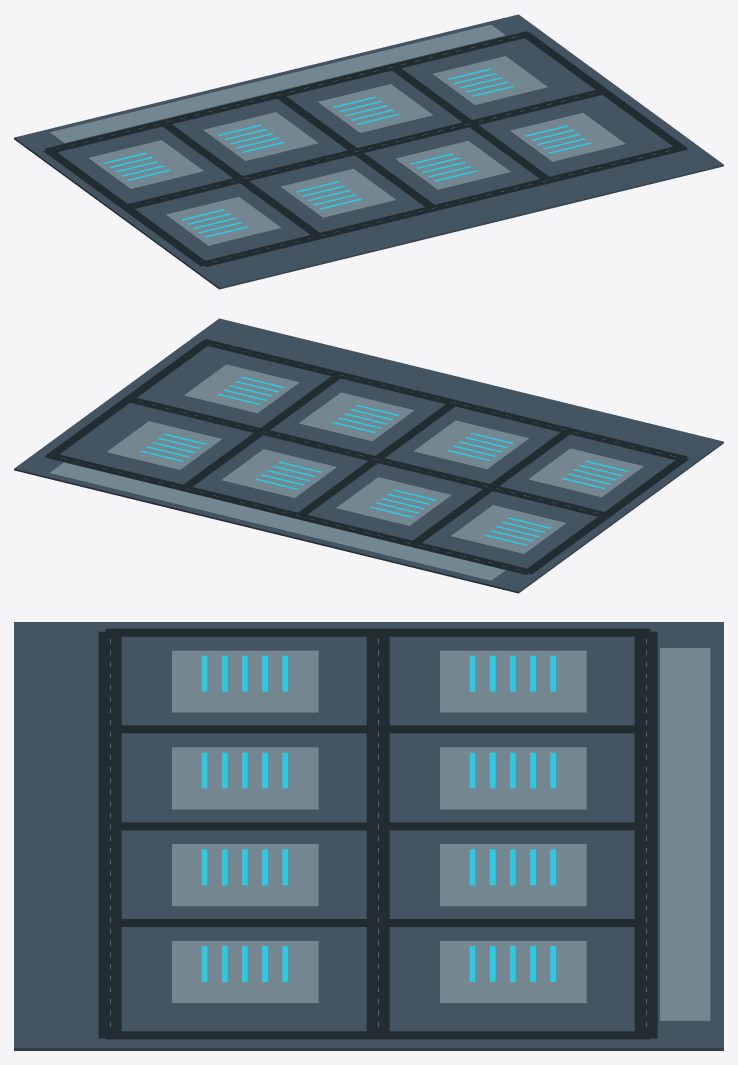
The model's file is site.glb.
The picture shows the model from 3 angles, top to bottom: view 1: azimuth 30°, elevation 25°; view 2: azimuth 150°, elevation 25°; view 3: azimuth 270°, elevation 25°; orthographic projection. The views are drawn at different scales.
Visible parts, largest first — view 1: site_slab, site_floor, site_dark, site_cyan; view 2: site_slab, site_floor, site_dark, site_cyan; view 3: site_slab, site_floor, site_dark, site_cyan.
Boxes of the visible parts, x1,y1,x2,y2 form: site_slab: (14, 14, 723, 289); site_floor: (49, 24, 625, 245); site_dark: (43, 31, 687, 266); site_cyan: (103, 68, 591, 237); site_slab: (14, 318, 723, 593); site_floor: (49, 364, 643, 580); site_dark: (45, 339, 688, 574); site_cyan: (140, 376, 628, 545); site_slab: (14, 622, 723, 1050); site_floor: (172, 648, 710, 1021); site_dark: (98, 628, 657, 1039); site_cyan: (201, 655, 555, 981).
Size of the model in its own units: 440 by 1.8 by 310.
